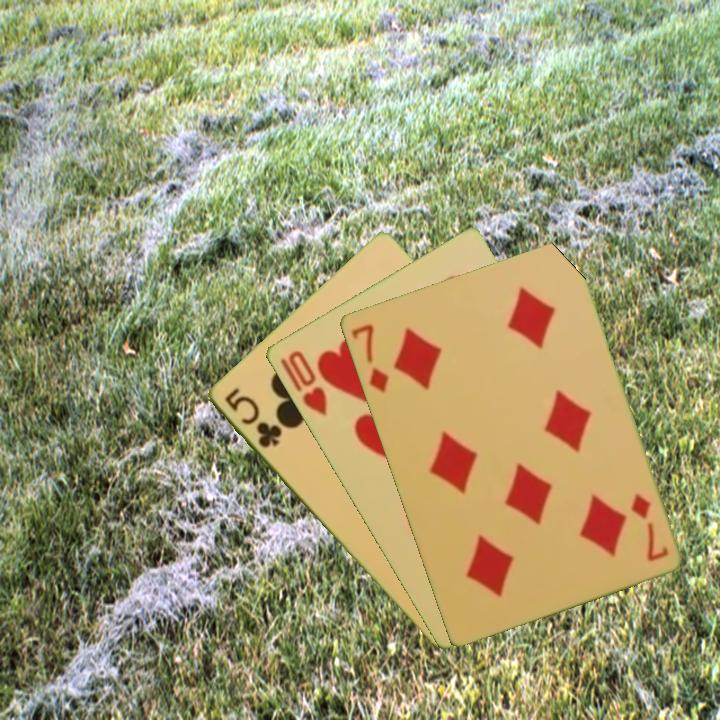10h: (275, 346, 330, 419)
5c: (220, 384, 285, 451)
7d: (347, 320, 392, 396), (626, 490, 671, 564)
